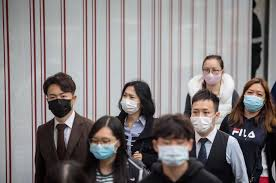mask: (156, 122, 190, 164), (187, 95, 212, 137), (89, 121, 116, 157), (47, 78, 74, 113), (118, 80, 145, 115), (241, 79, 266, 115), (203, 56, 222, 85)
